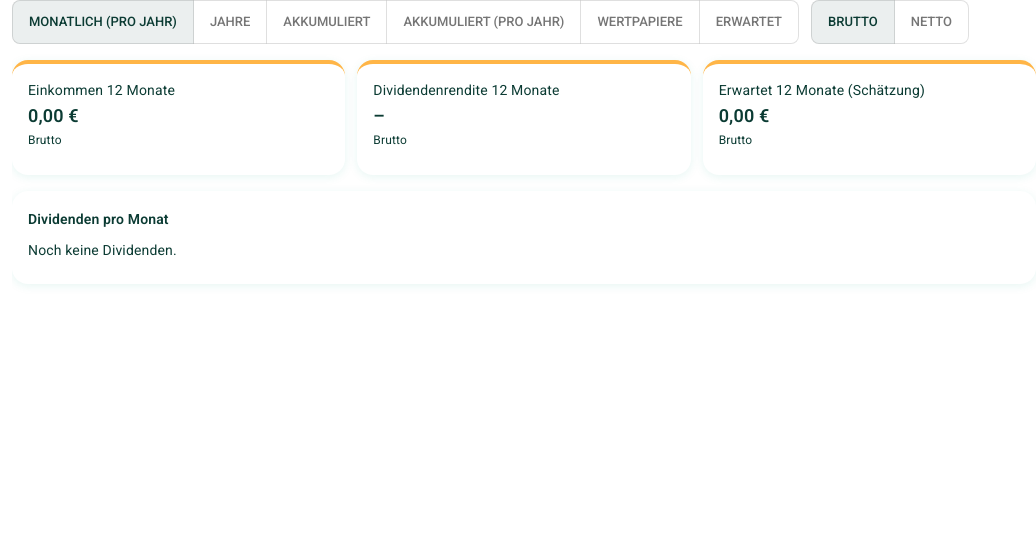
Test: DividendsView › shows empty lists, 0 and – without dividends
Click the button "Wertpapiere" at (640, 22), box [580,0,700,44]
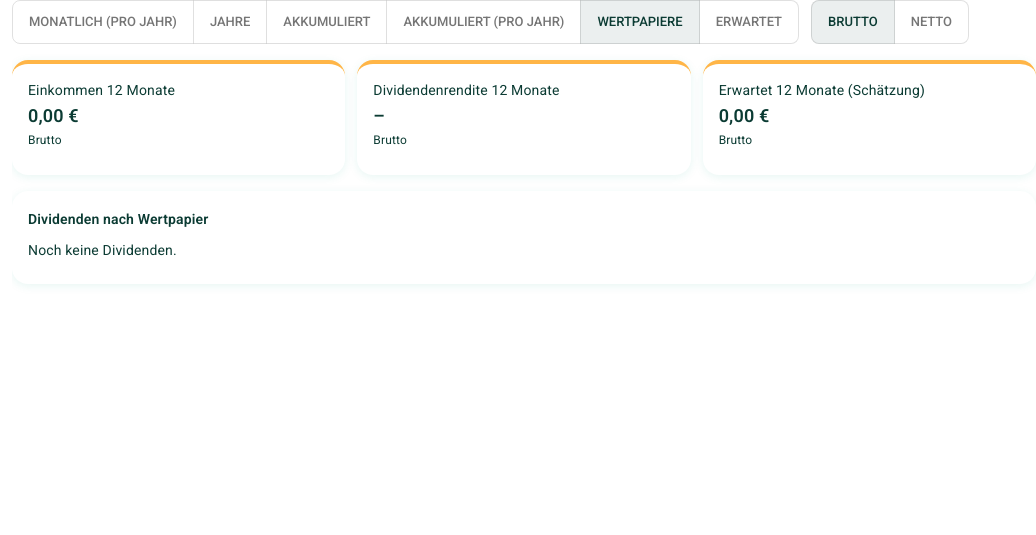
Expected: the text "Noch keine Dividenden." is shown, [28,242,177,258]
Click the button "Erwartet" at (749, 22), box [699,0,799,44]
(page scrolled)
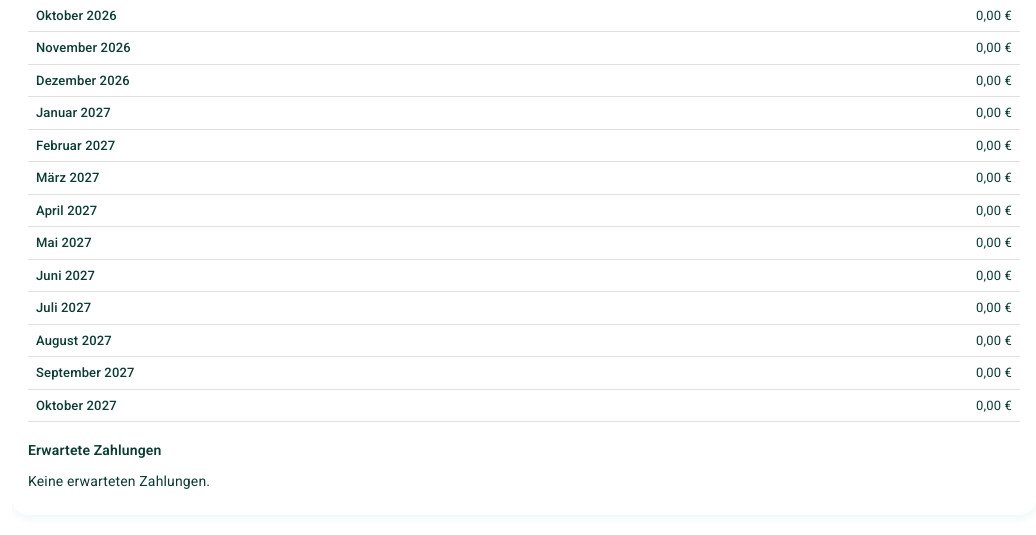
Expected: the text "Keine erwarteten Zahlungen." is shown, [28,473,210,489]
